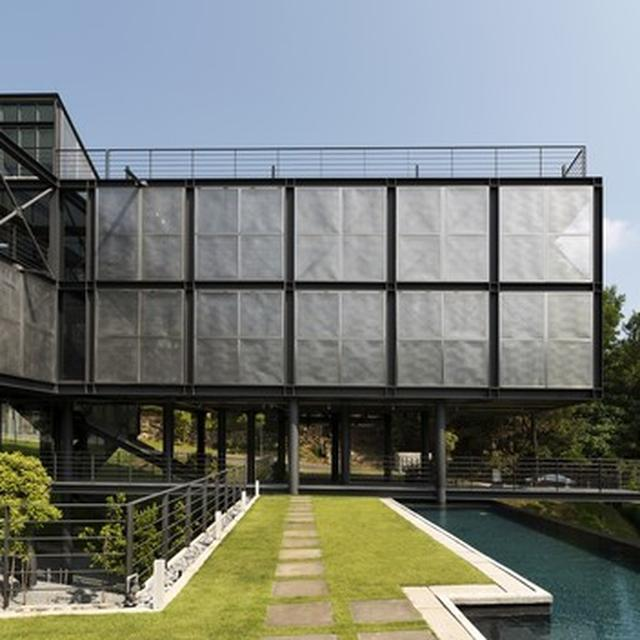building: (0, 81, 640, 486)
